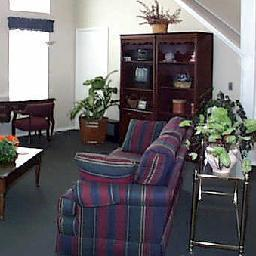Matera: (66, 72, 116, 145)
Sanitario: (15, 100, 53, 144)
